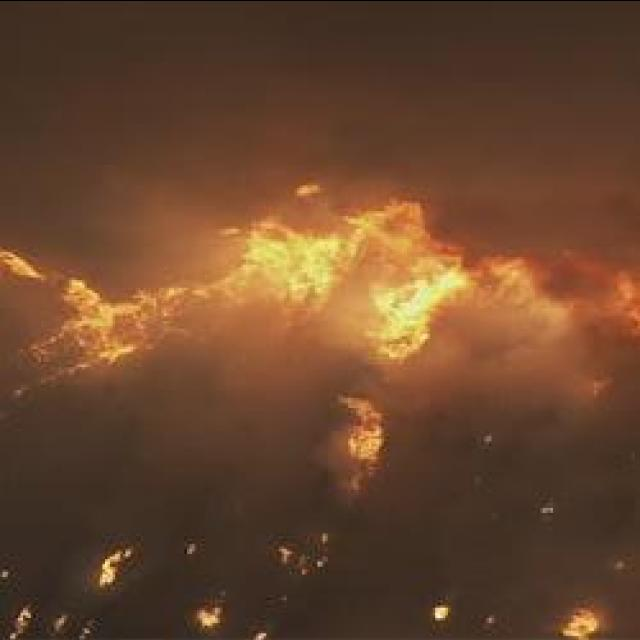fire: (43, 280, 147, 366), (335, 400, 390, 471), (247, 233, 324, 277), (554, 602, 608, 640), (96, 540, 134, 594), (0, 246, 40, 284), (374, 294, 424, 322), (437, 268, 463, 292), (198, 611, 224, 625)
smoke: (98, 168, 228, 274)
